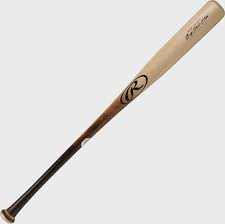baseball bat: (1, 1, 225, 223)
